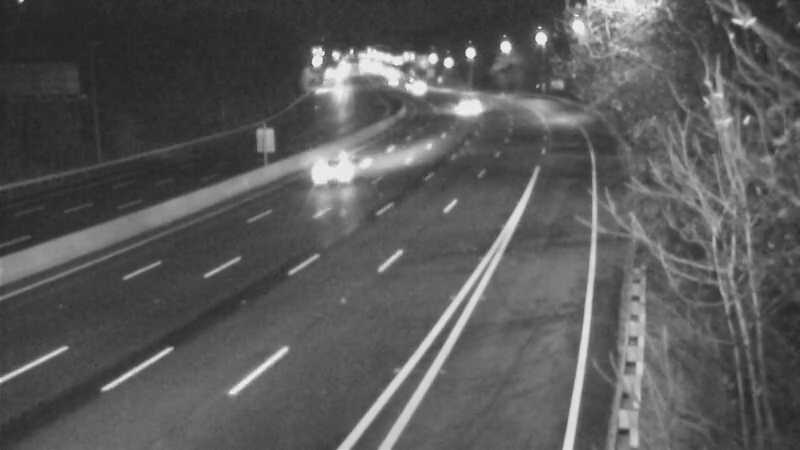vehicle: (296, 130, 376, 210), (389, 62, 439, 112), (440, 79, 490, 129)
